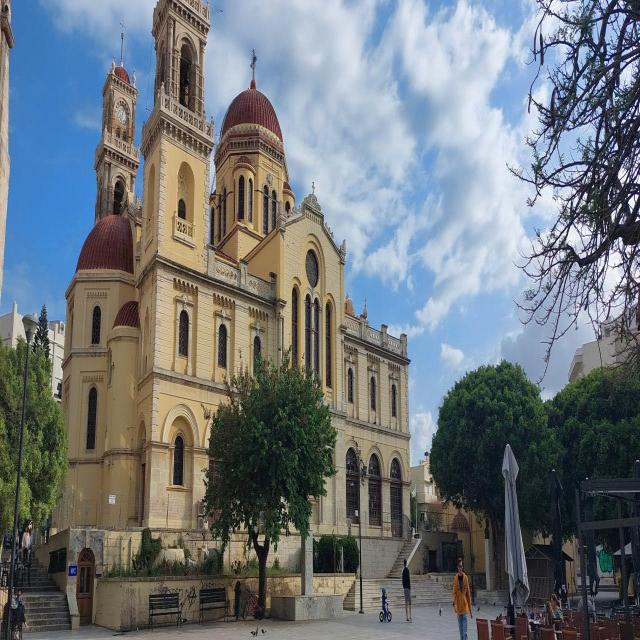Agios Minas: (49, 1, 423, 555)
